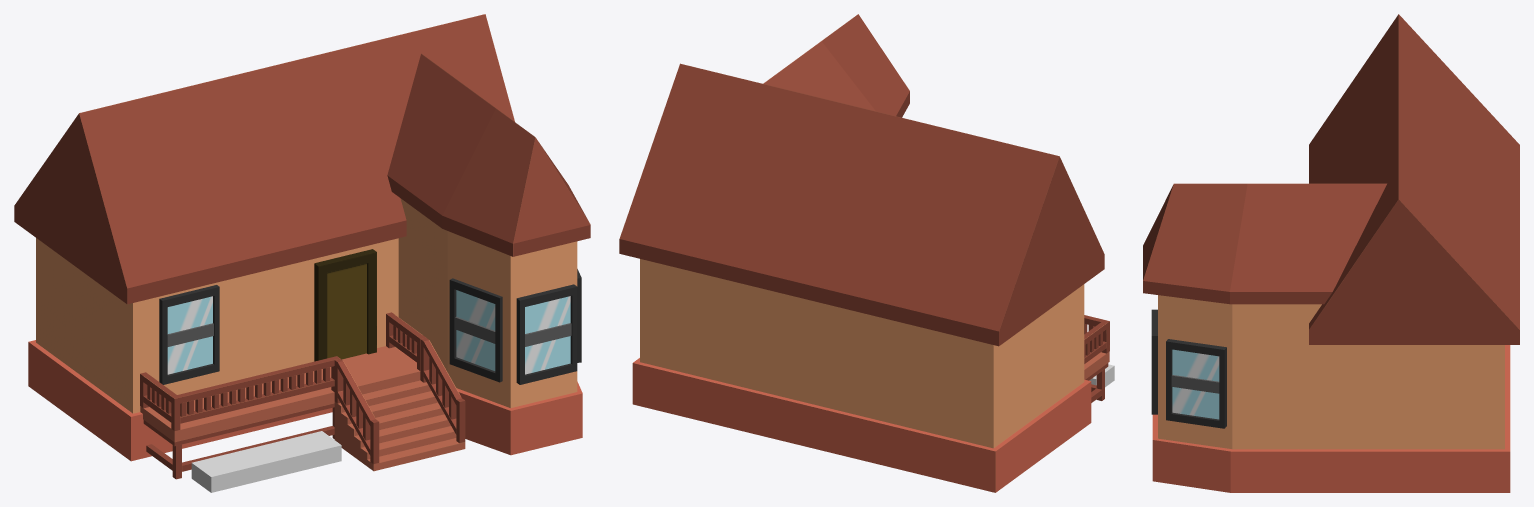
The model's file is ((Placeholder)) House.fbx.
The picture shows the model from 3 angles, left to right: view 1: azimuth 30°, elevation 25°; view 2: azimuth 150°, elevation 25°; view 3: azimuth 270°, elevation 25°; orthographic projection. The views are drawn at different scales.
Visible parts, largest first — view 1: Plane.002, Normal Door.006, Window1.076, Window1.075, Plane.020, Window1.077; view 2: Plane.002; view 3: Plane.002, Window1.078, Window1.076.
Boxes of the visible parts, x1,y1,x2,y2 form: Plane.002: [14, 14, 590, 479]; Normal Door.006: [314, 249, 376, 361]; Window1.076: [516, 284, 577, 384]; Window1.075: [159, 285, 219, 384]; Plane.020: [191, 431, 341, 492]; Window1.077: [449, 278, 502, 382]; Plane.002: [619, 14, 1109, 492]; Plane.002: [1143, 14, 1519, 492]; Window1.078: [1166, 339, 1226, 428]; Window1.076: [1151, 309, 1157, 414].
Size of the model in its own units: 718 by 539 by 618.
